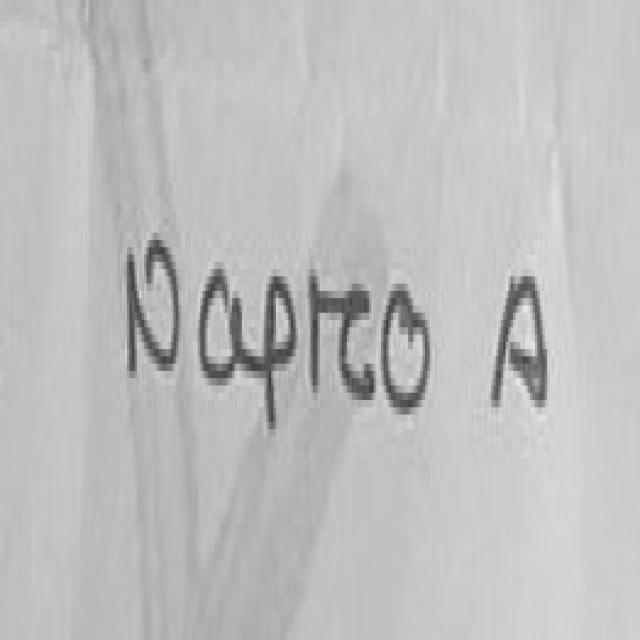A: (493, 265, 547, 413)
N: (127, 240, 181, 371)
a: (200, 269, 258, 382)
o: (384, 291, 430, 411)
p: (266, 276, 296, 425)
r: (310, 280, 374, 396)
